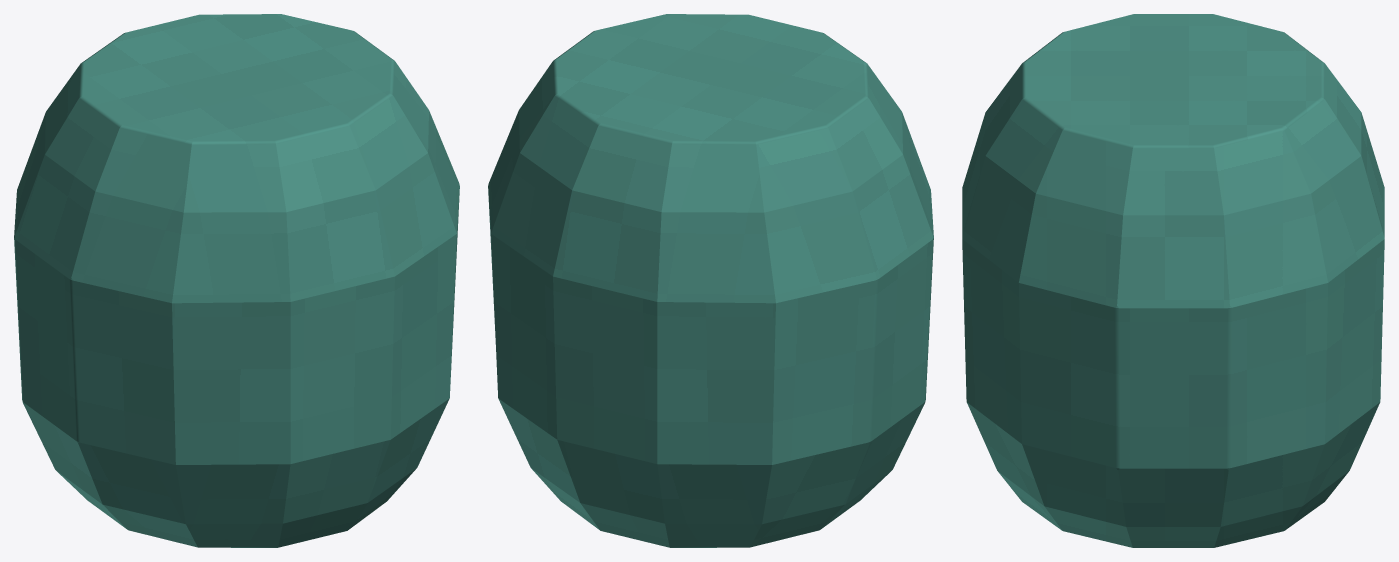
The model's file is Ceramic-body.glb.
The picture shows the model from 3 angles, left to right: view 1: azimuth 30°, elevation 25°; view 2: azimuth 150°, elevation 25°; view 3: azimuth 270°, elevation 25°; orthographic projection.
Visible parts, largest first — view 1: Ceramic-body; view 2: Ceramic-body; view 3: Ceramic-body.
Part boxes in pixels (x1,y1,x2,y2): Ceramic-body: [14, 14, 459, 547]; Ceramic-body: [488, 14, 933, 547]; Ceramic-body: [962, 14, 1384, 547].
Size of the model in its own units: 0.2975 by 0.298 by 0.2801.
1 material, 1 textured.
